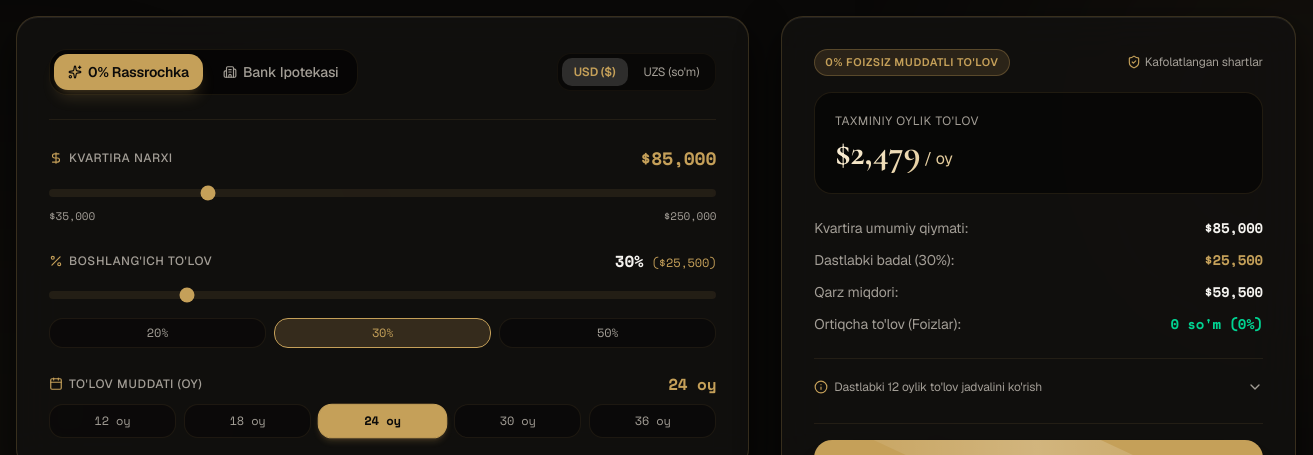
Test case: MortgageCalculator Component › updates price using price slider
Set the slider labelled "Kvartira narxi" to "120000" at {"x": 314, "y": 193}, box top-left (49, 189), bottom-right (716, 197)
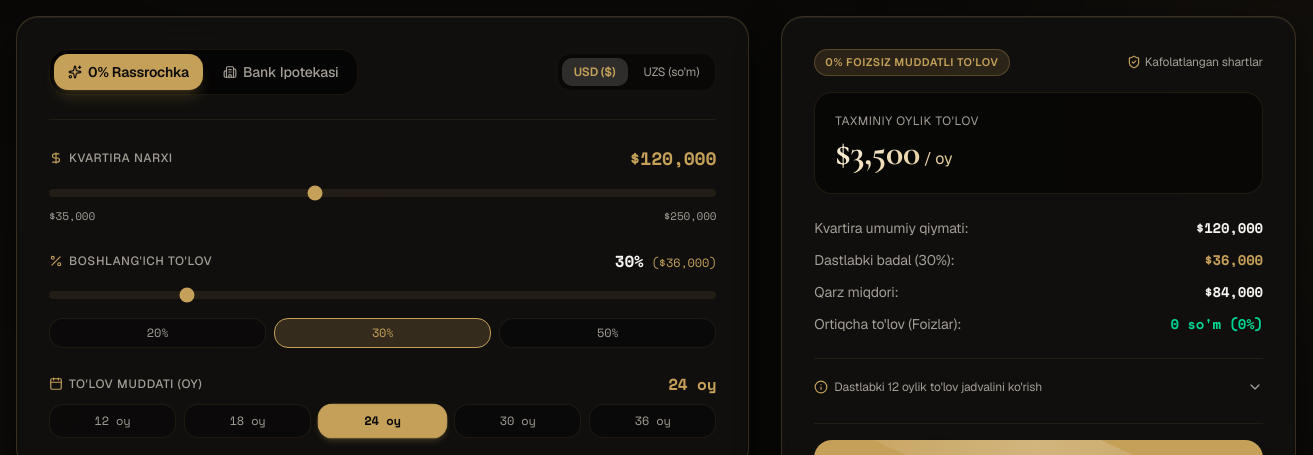
Check: the text "$120,000" in the row of "Kvartira narxi" is shown, box top-left (630, 145), bottom-right (716, 171)
